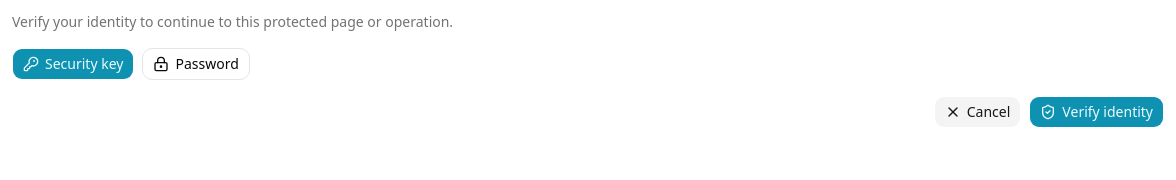
Test case: SudoConfirmation › handles unsupported browsers without starting WebAuthn
The width and height of the screenshot is (1176, 180).
Click the button "Verify identity". click: (1097, 112)
box: [1029,96,1164,128]
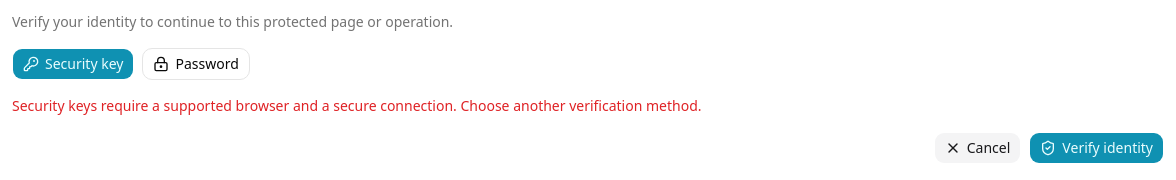
Expected: the message shows "secure connection", [12,96,702,115]
